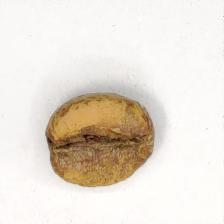NG: (48, 96, 147, 184)
